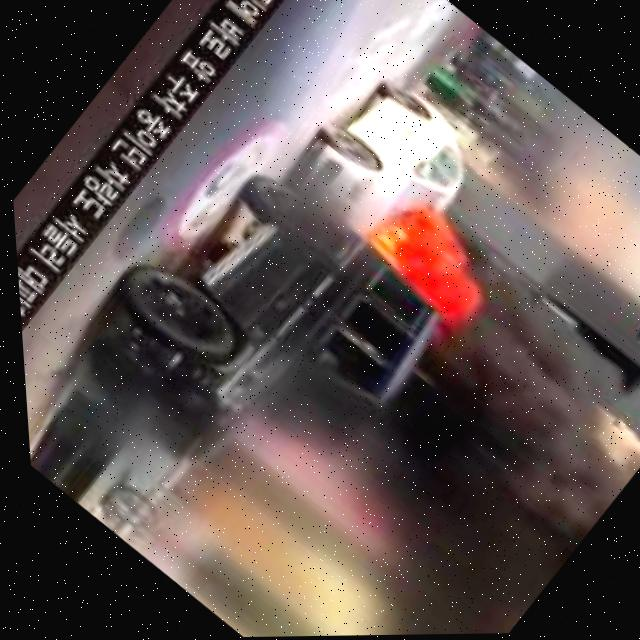Fire: (363, 206, 495, 328)
Smoke: (381, 261, 640, 565)
